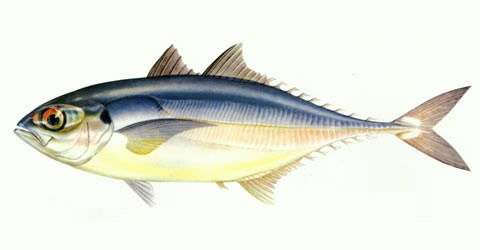fish: (13, 43, 472, 208)
